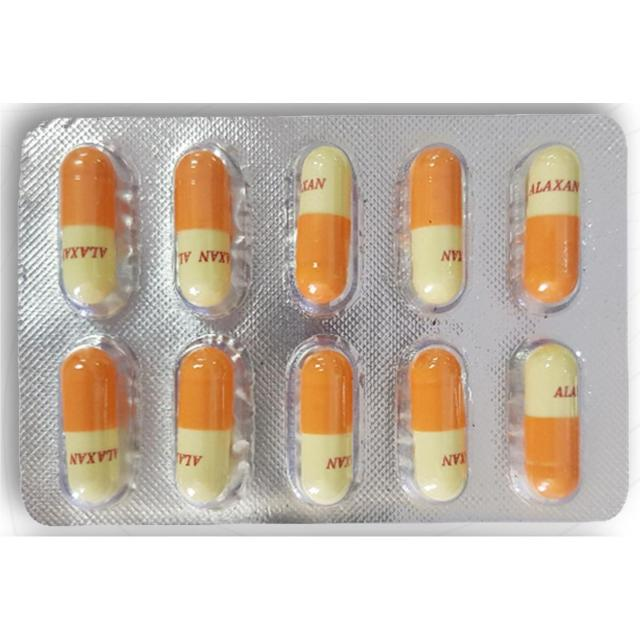blister: (16, 105, 632, 529)
